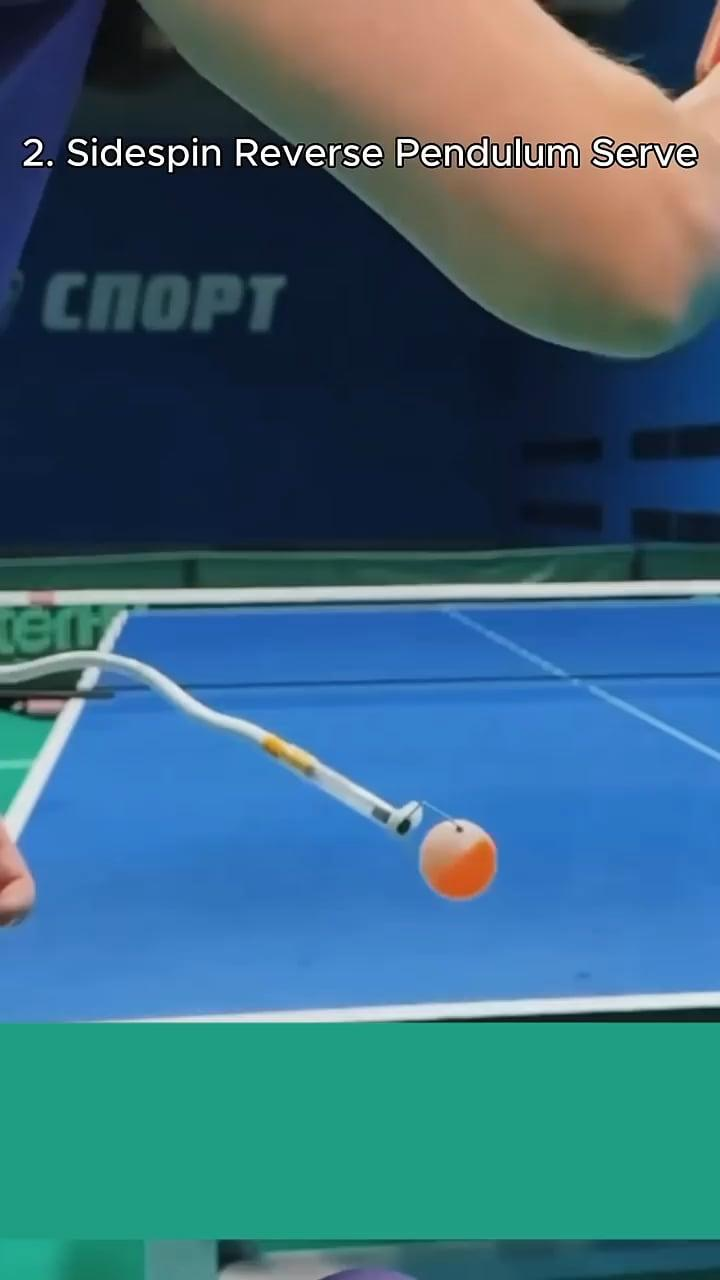ball_pingpong: (420, 812, 502, 893)
